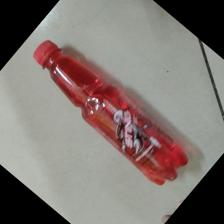Sting: (33, 41, 190, 187)
